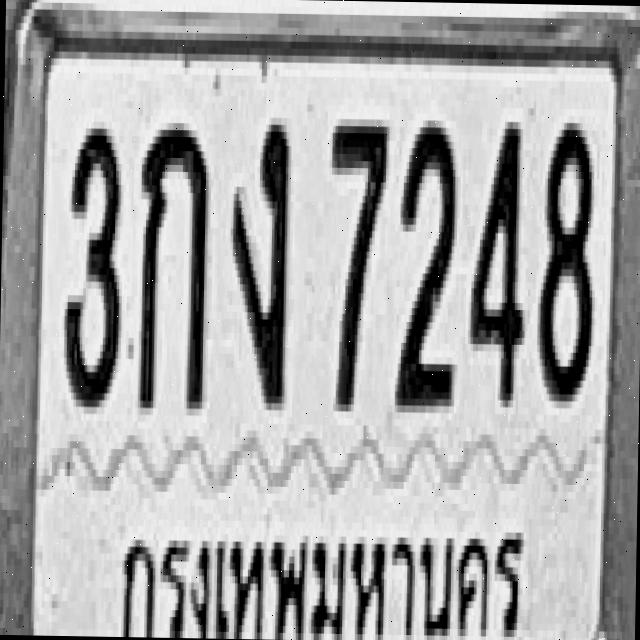10GorGai: (134, 119, 210, 412)
16NgorNgu: (228, 117, 288, 403)
2: (393, 116, 457, 410)
3: (61, 121, 122, 407)
4: (466, 114, 526, 400)
7: (324, 118, 386, 412)
8: (536, 116, 594, 402)
Bangkok: (104, 506, 538, 640)
